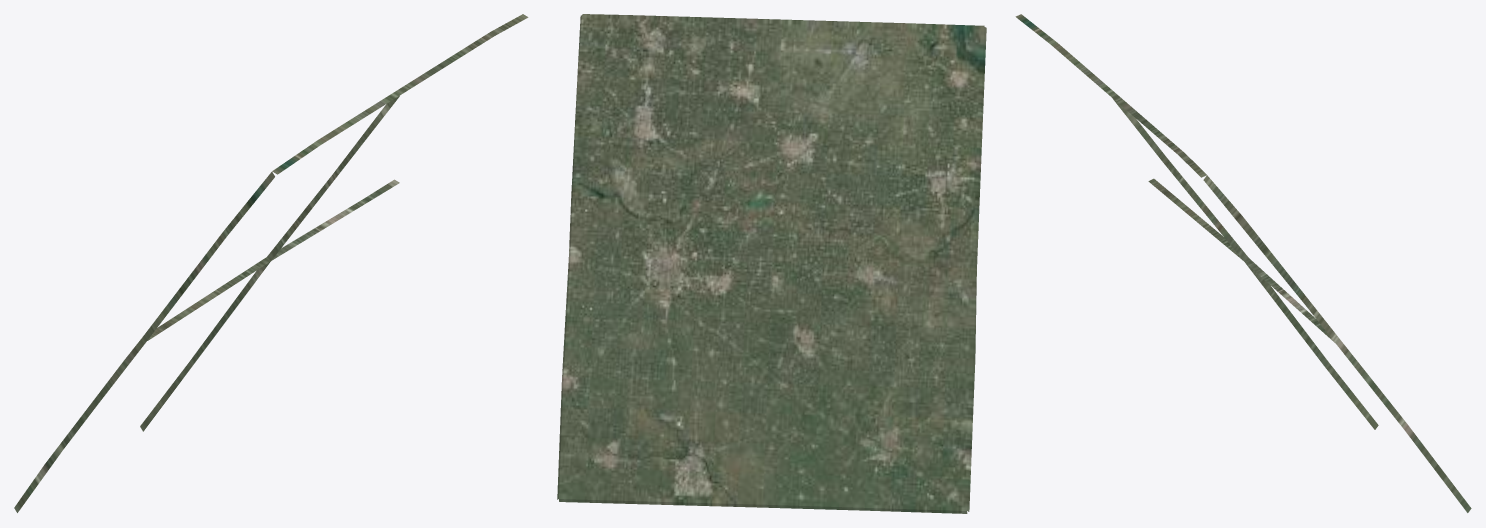
The picture shows the model from 3 angles, left to right: view 1: azimuth 30°, elevation 25°; view 2: azimuth 150°, elevation 25°; view 3: azimuth 270°, elevation 25°; orthographic projection. The views are drawn at different scales.
Bounding box in the file's own units: 156412 × 131264 × 138467.
1 material, 1 textured.
